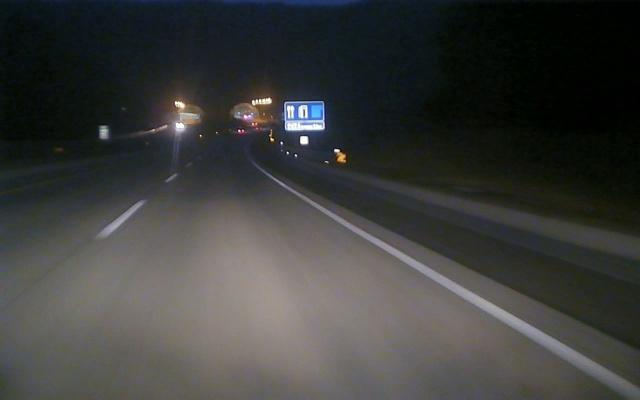lane: (280, 181, 640, 400), (96, 174, 177, 240)
